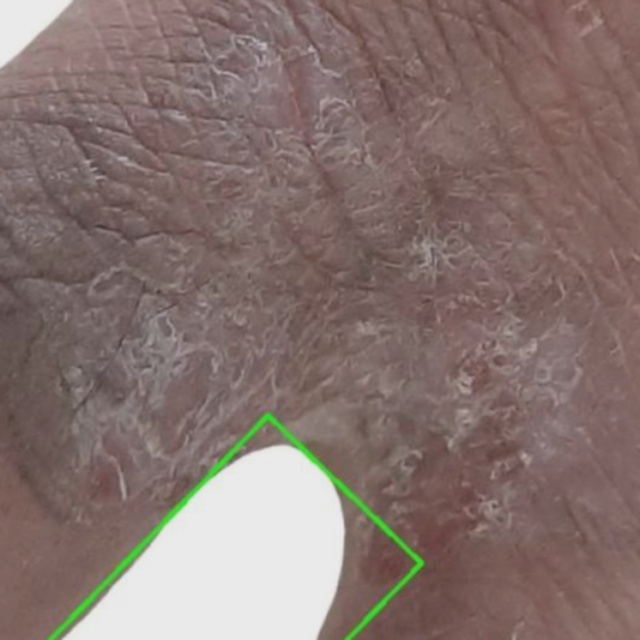Eczema: (50, 415, 421, 639)
